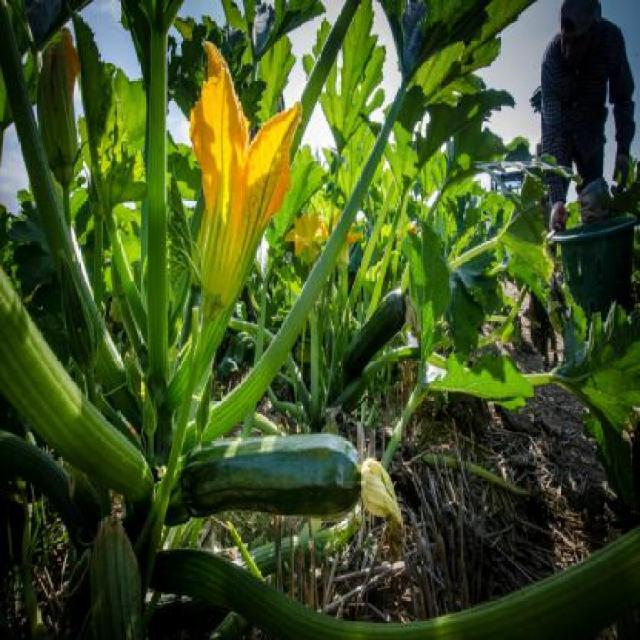Zucchini: (220, 416, 376, 538)
